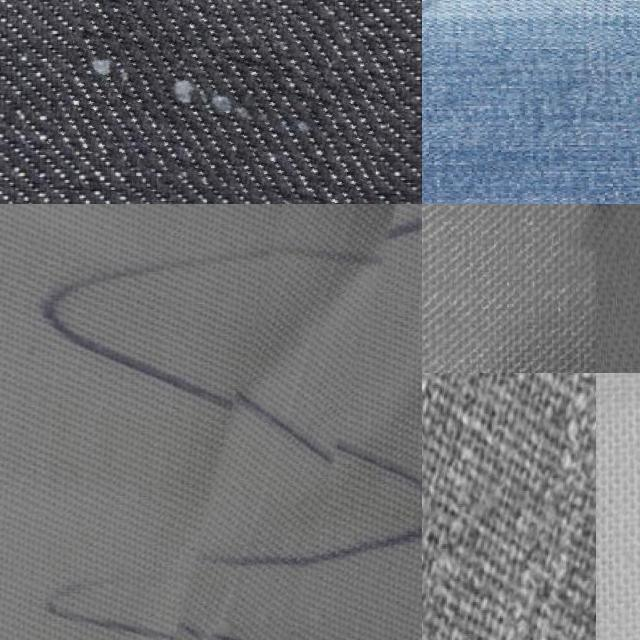Hole: (587, 204, 640, 261)
Thread_other: (204, 204, 378, 640), (57, 0, 400, 202)
